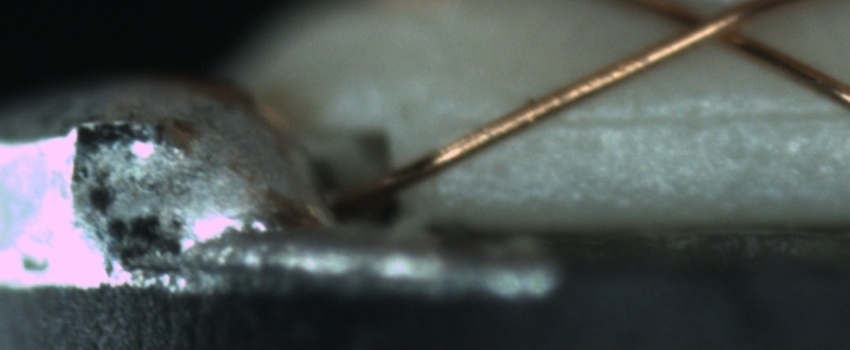CL: (659, 0, 765, 57)
DL: (521, 84, 849, 149)
